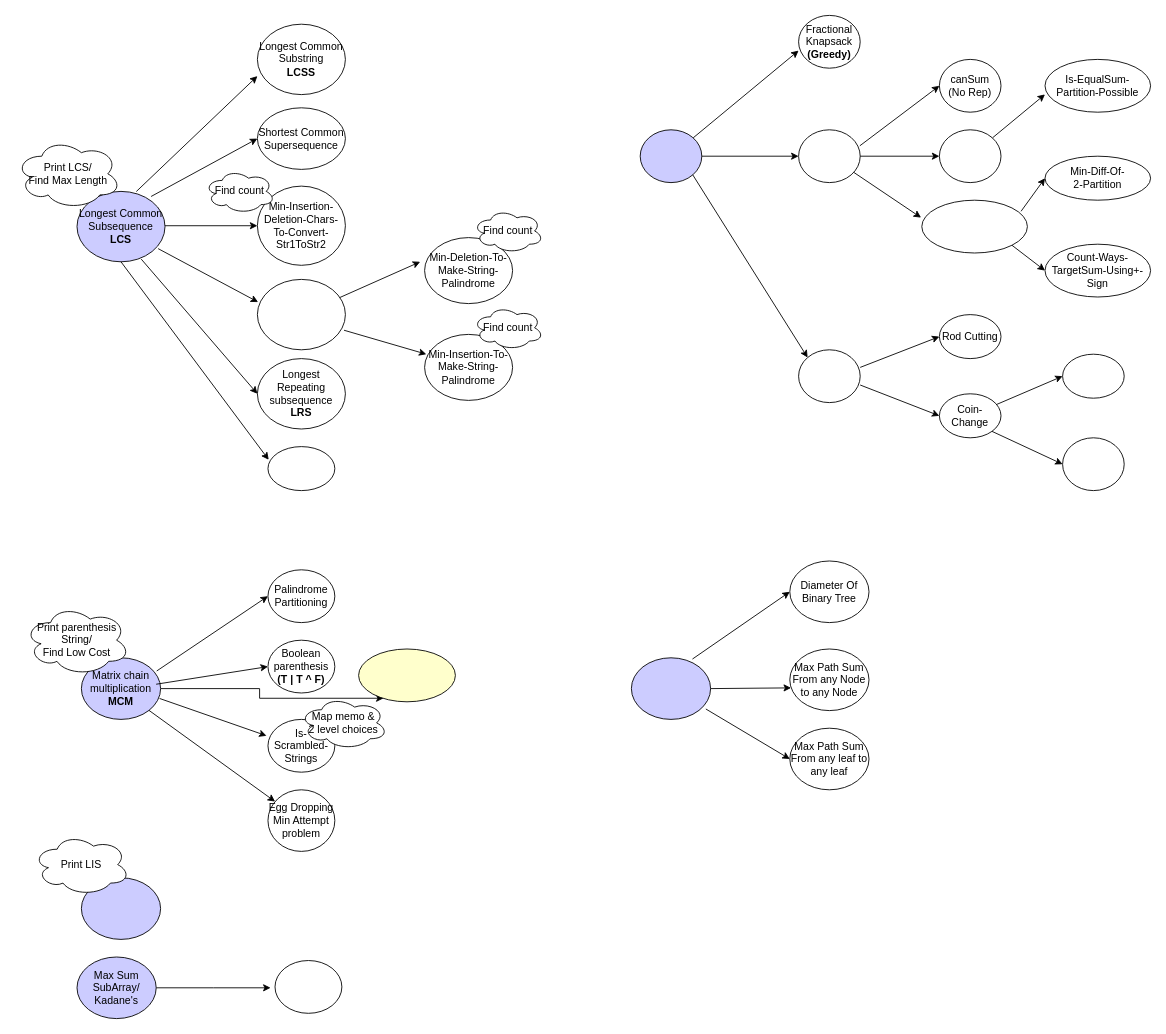
Some shapes in this 1166 by 1034 pixel diagram are drawn without their labels. The box of each missing label's shape, as (x1, y1, x2, y2) in pixels:
01 Knapsack: (798, 129, 860, 183)
Count-Ways-2-Partition-Diff-Equal-To-Given-Diff: (921, 199, 1027, 253)
Count-Ways-To-TargetSum: (1062, 353, 1124, 398)
countSum (No Rep): (939, 129, 1001, 183)
Divide array in "k" Segments w/ some Condition: (358, 648, 455, 702)
Is Subsequence: (267, 446, 335, 491)
Knapsack: (639, 129, 702, 183)
Longest Increasing Subsequence LIS: (81, 877, 161, 939)
Longest palindrome subsequence LPS: (257, 279, 345, 350)
Max Product SubArray: (274, 960, 342, 1013)
Min-Coins-To-TargetSum: (1062, 437, 1124, 491)
Tree DP: (631, 657, 711, 719)
Unbounded Knapsack: (798, 349, 860, 403)
